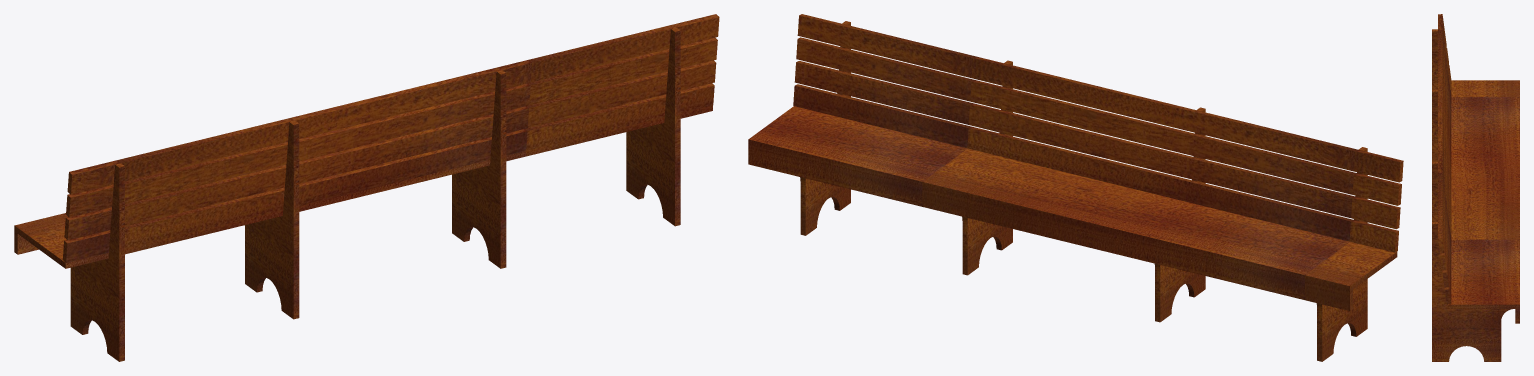
3 renders of one model, left to right at view 1: azimuth 30°, elevation 25°; view 2: azimuth 150°, elevation 25°; view 3: azimuth 270°, elevation 25°, orthographic. The views are drawn at different scales.
Parts seen in each view (by area): view 1: mesh4_mesh4-geometry, mesh5_mesh5-geometry, mesh1_mesh1-geometry, mesh2_mesh2-geometry, mesh17_mesh17-geometry, mesh15_mesh15-geometry, mesh13_mesh13-geometry, mesh11_mesh11-geometry, mesh3_mesh3-geometry; view 2: mesh3_mesh3-geometry, mesh2_mesh2-geometry, mesh1_mesh1-geometry, mesh4_mesh4-geometry, mesh5_mesh5-geometry, mesh11_mesh11-geometry, mesh13_mesh13-geometry, mesh15_mesh15-geometry, mesh17_mesh17-geometry; view 3: mesh3_mesh3-geometry, mesh13_mesh13-geometry, mesh4_mesh4-geometry, mesh1_mesh1-geometry, mesh2_mesh2-geometry, mesh5_mesh5-geometry, mesh17_mesh17-geometry, mesh11_mesh11-geometry, mesh15_mesh15-geometry.
Boxes of the visible parts, x1,y1,x2,y2 form: mesh4_mesh4-geometry: (67,14,719,194); mesh5_mesh5-geometry: (66,37,717,217); mesh1_mesh1-geometry: (64,60,716,240); mesh2_mesh2-geometry: (62,83,714,262); mesh17_mesh17-geometry: (245,120,299,319); mesh15_mesh15-geometry: (452,70,506,268); mesh13_mesh13-geometry: (626,27,680,226); mesh11_mesh11-geometry: (70,163,124,361); mesh3_mesh3-geometry: (14,105,712,268); mesh3_mesh3-geometry: (748,106,1397,310); mesh2_mesh2-geometry: (793,84,1398,252); mesh1_mesh1-geometry: (794,61,1400,229); mesh4_mesh4-geometry: (797,14,1403,182); mesh5_mesh5-geometry: (796,37,1401,205); mesh11_mesh11-geometry: (1316,147,1367,361); mesh13_mesh13-geometry: (800,21,850,235); mesh15_mesh15-geometry: (962,60,1012,275); mesh17_mesh17-geometry: (1154,107,1205,322); mesh3_mesh3-geometry: (1447,80,1519,323); mesh13_mesh13-geometry: (1432,222,1512,361); mesh4_mesh4-geometry: (1438,14,1444,253); mesh1_mesh1-geometry: (1442,48,1448,287); mesh2_mesh2-geometry: (1444,65,1451,304); mesh5_mesh5-geometry: (1440,31,1446,270); mesh17_mesh17-geometry: (1432,89,1437,161); mesh11_mesh11-geometry: (1432,29,1437,89); mesh15_mesh15-geometry: (1432,161,1437,221).
Size of the model in its own units: 0.949 by 0.2733 by 0.1571.
